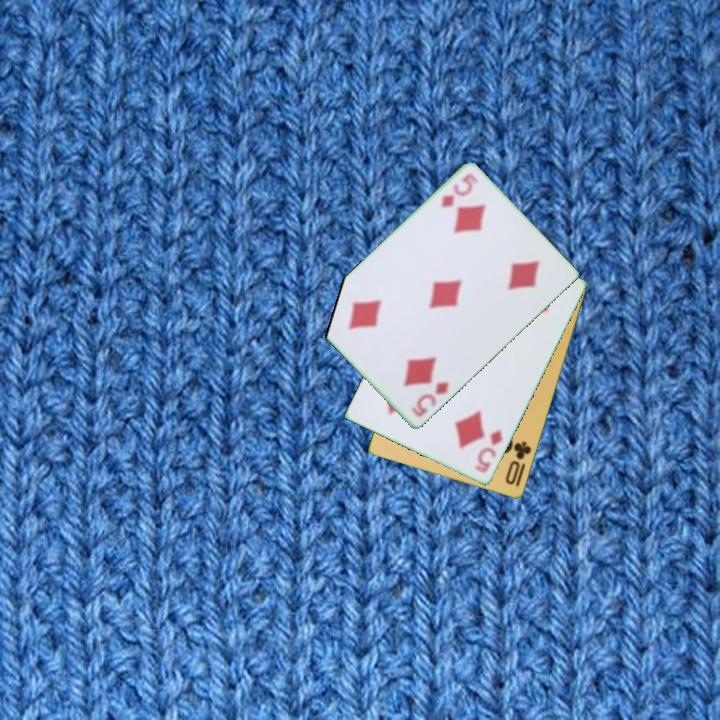10c: (502, 438, 534, 488)
5d: (407, 378, 453, 420), (438, 170, 481, 212), (471, 426, 506, 476)
